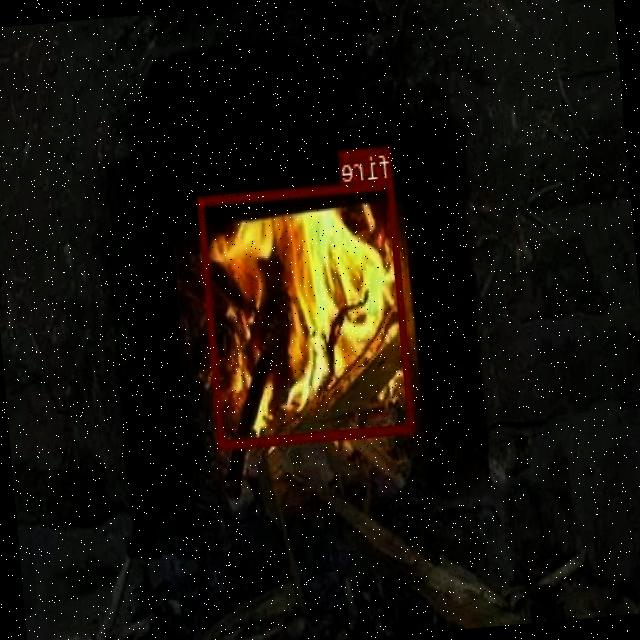fire: (198, 178, 416, 448)
